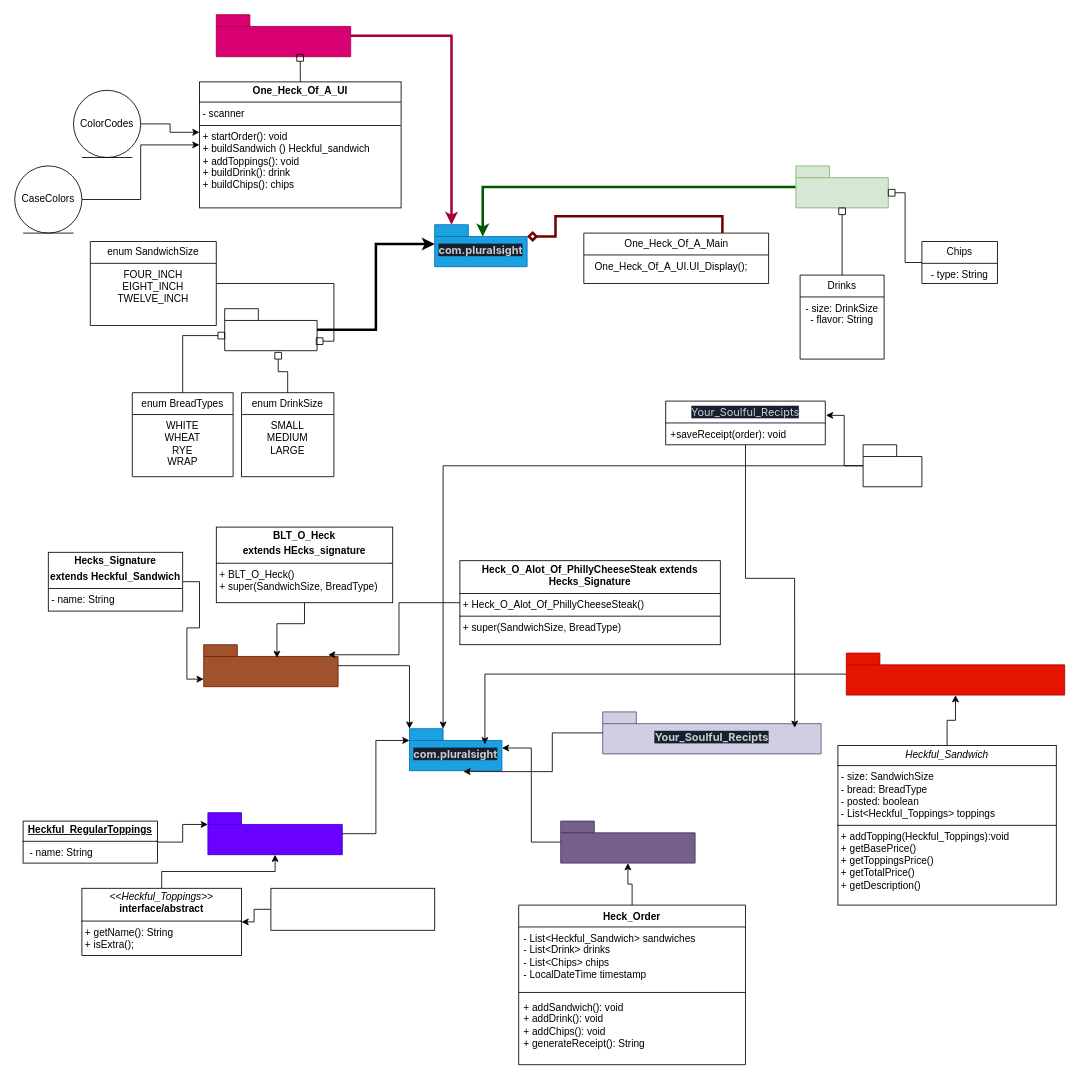
This 1079x1082 diagram has some shape labels left out. Each missing label, with the centre of its shape:
com.Sides: point 841,186
Heck_Emuns: point 270,329
Heck_Toppings: point 274,833
Heckful_Order: point 627,841
Heckful_PremiumToppings - name: String: point 352,908
Hecks_Signatures: point 270,665
One_Heck_of_a_Sandwich_Package: point 955,673
receipts: point 892,465
UI_OF_THE_DANGED: point 283,35
